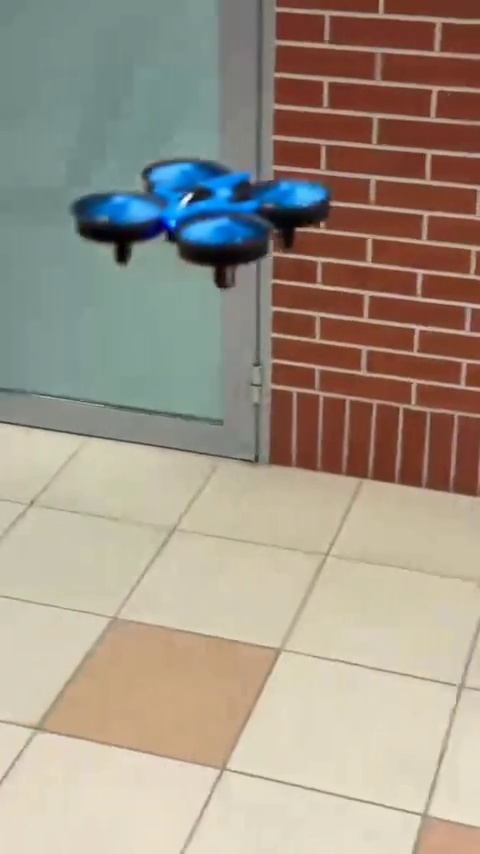drone: (77, 154, 331, 280)
